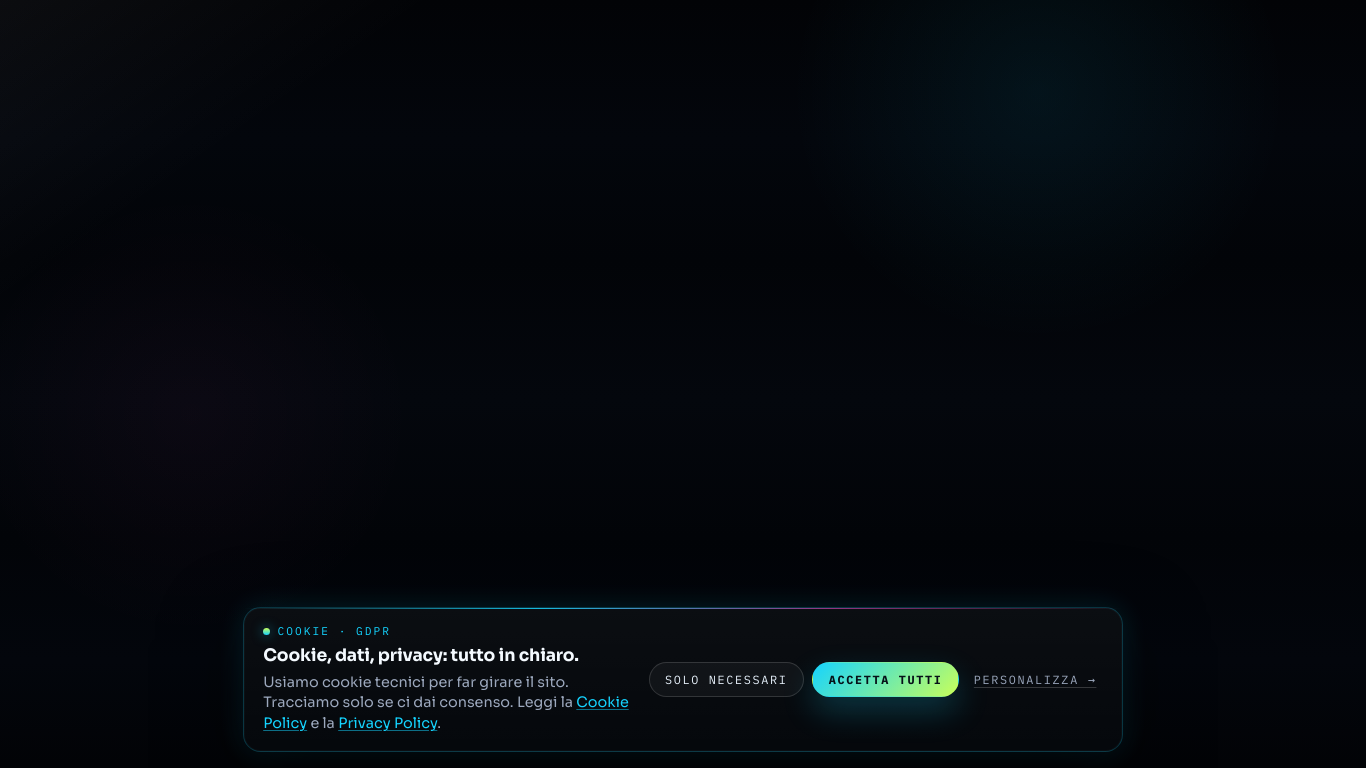
Test: CookieConsent › 'personalizza' apre il dialog delle preferenze
Click the button "personalizza →" at {"x": 1035, "y": 679}, box x1=967 y1=662 x2=1103 y2=697
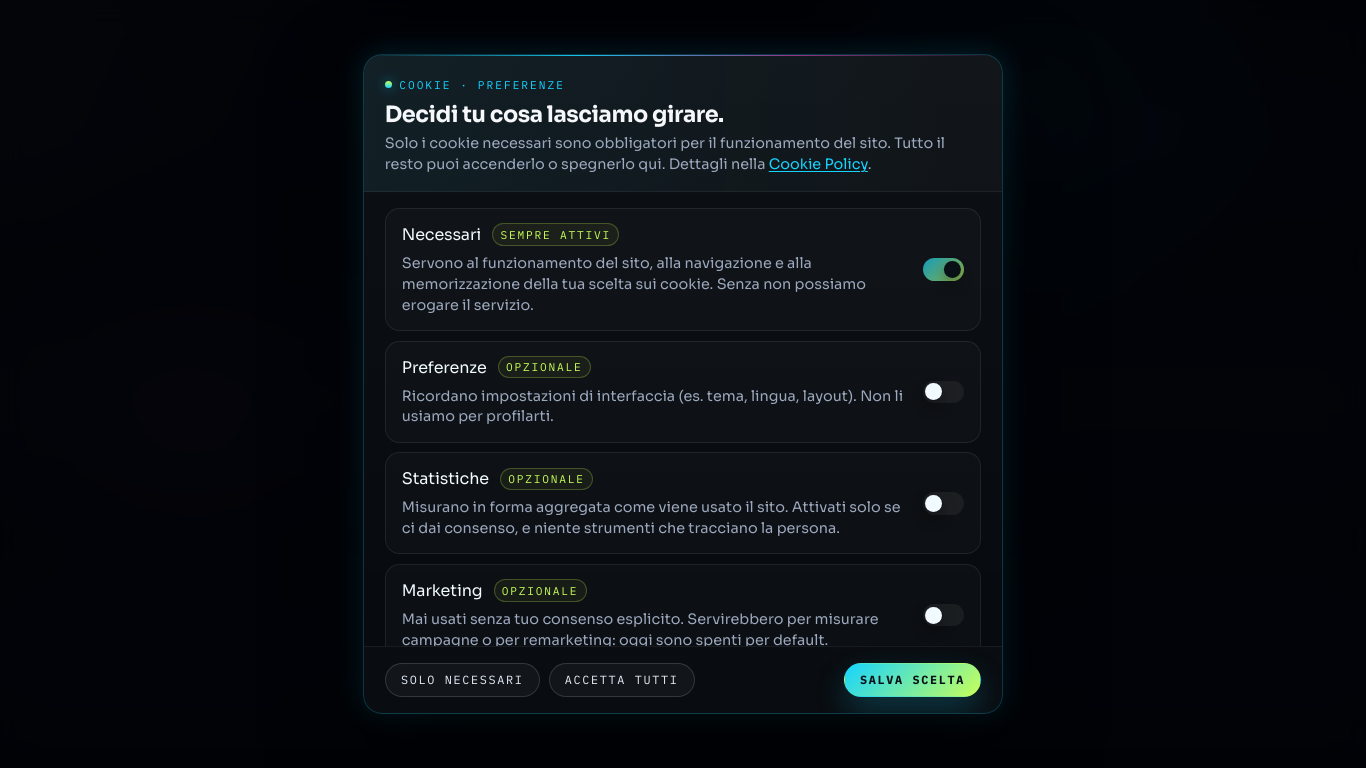
Result: the dialog named "preferenze cookie" is shown
